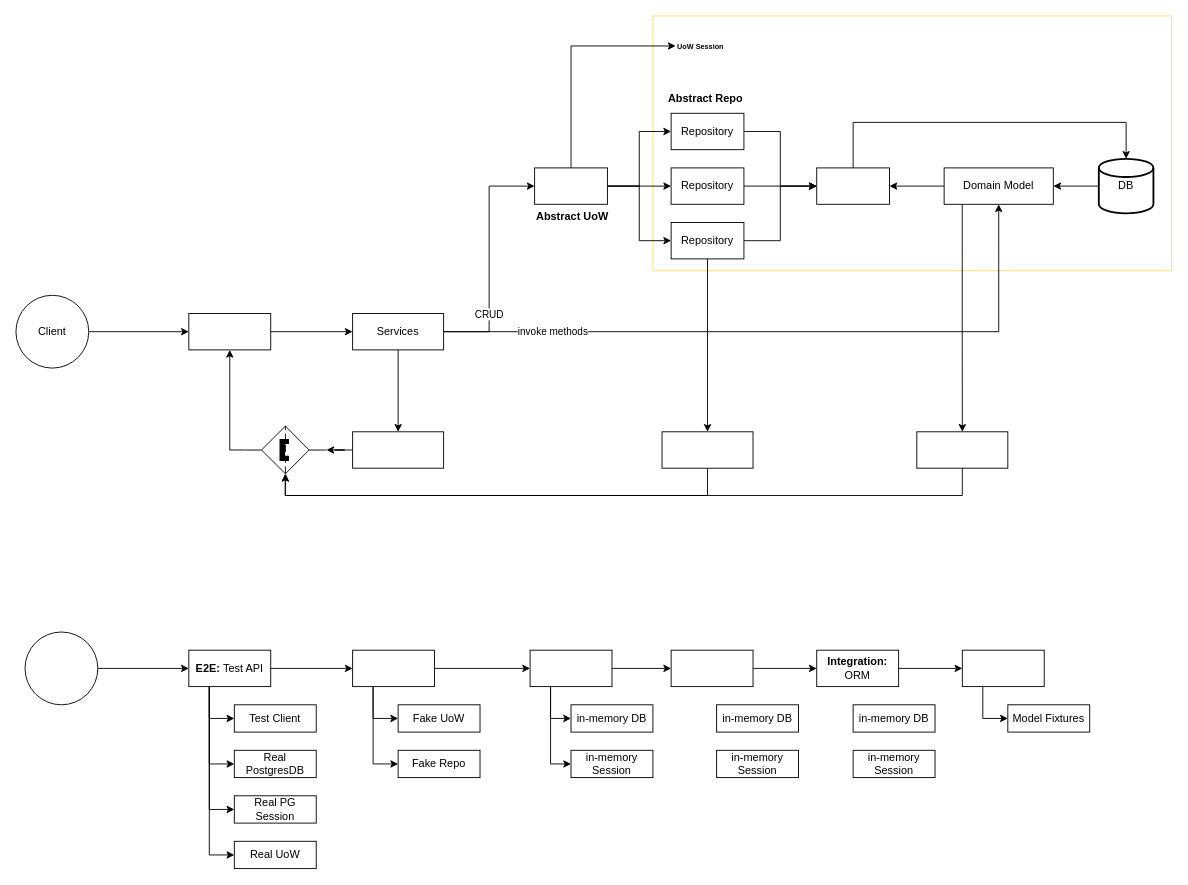
Some shapes in this 1188 by 885 pixel diagram are drawn without their labels. The shapes that lost their labels are listed below. From the top down, each one's box as (x1, y1, x2, y2) in pixels, then its label:
(534, 167, 607, 204): UoW
(816, 167, 890, 204): ORM
(188, 313, 271, 350): API
(352, 431, 444, 468): Services Error
(661, 431, 753, 468): DB Error
(916, 431, 1008, 468): Domain Error
(24, 631, 98, 705): Tests
(352, 649, 435, 687): Unit: Services
(529, 649, 612, 687): Integration : UoW
(670, 649, 753, 687): Integration: Repo
(961, 649, 1044, 687): Unit: Domain
